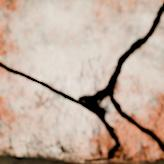brick: (0, 0, 163, 97), (0, 69, 163, 163), (116, 16, 163, 141)
crack: (0, 2, 163, 162)
